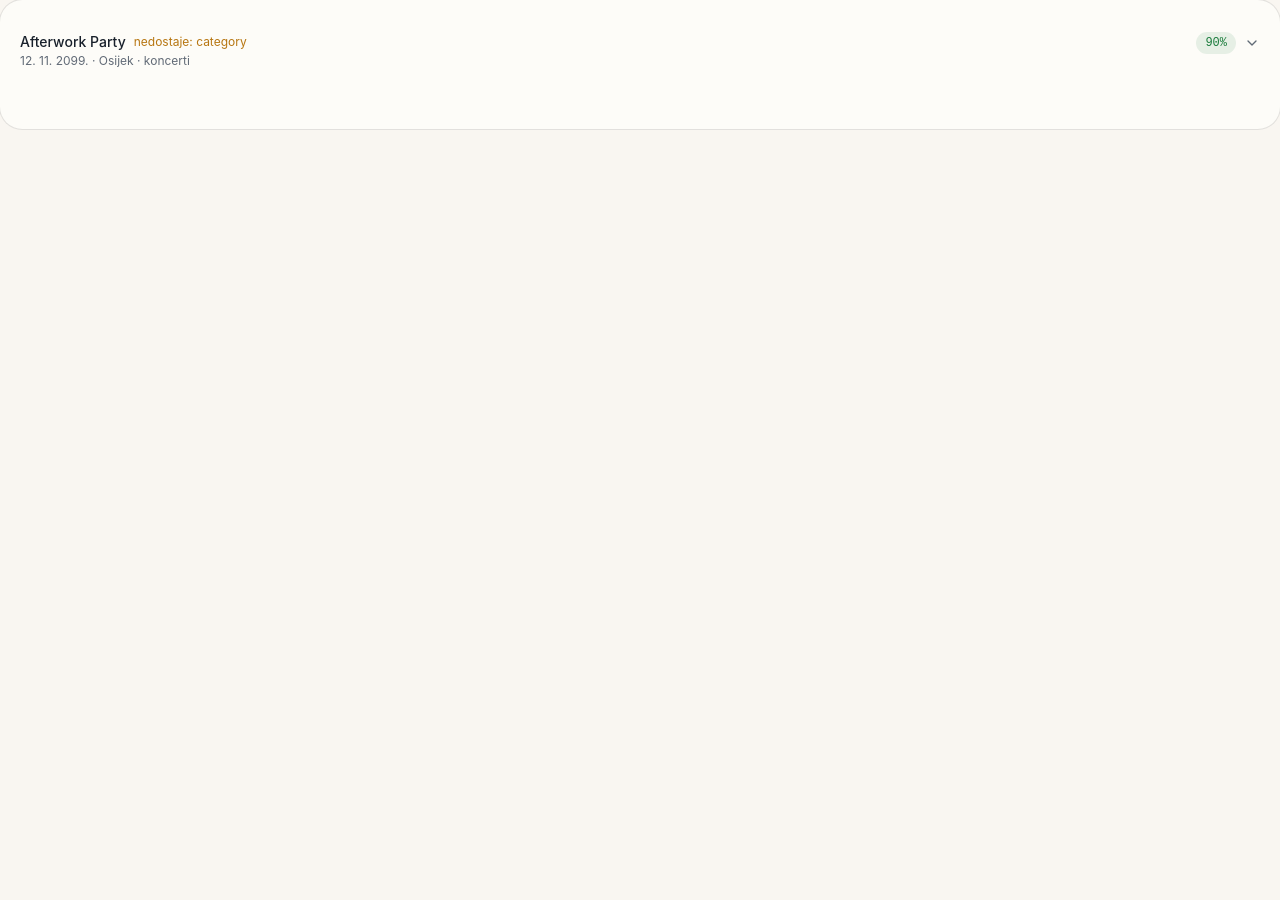
Test case: Izdvojeno in the parsed candidate review › sends the editorial flag with the import once the admin turns it on
Later steps or results of the test are not shown.
Click the button.
click(73, 42)  # box [0, 16, 1279, 85]
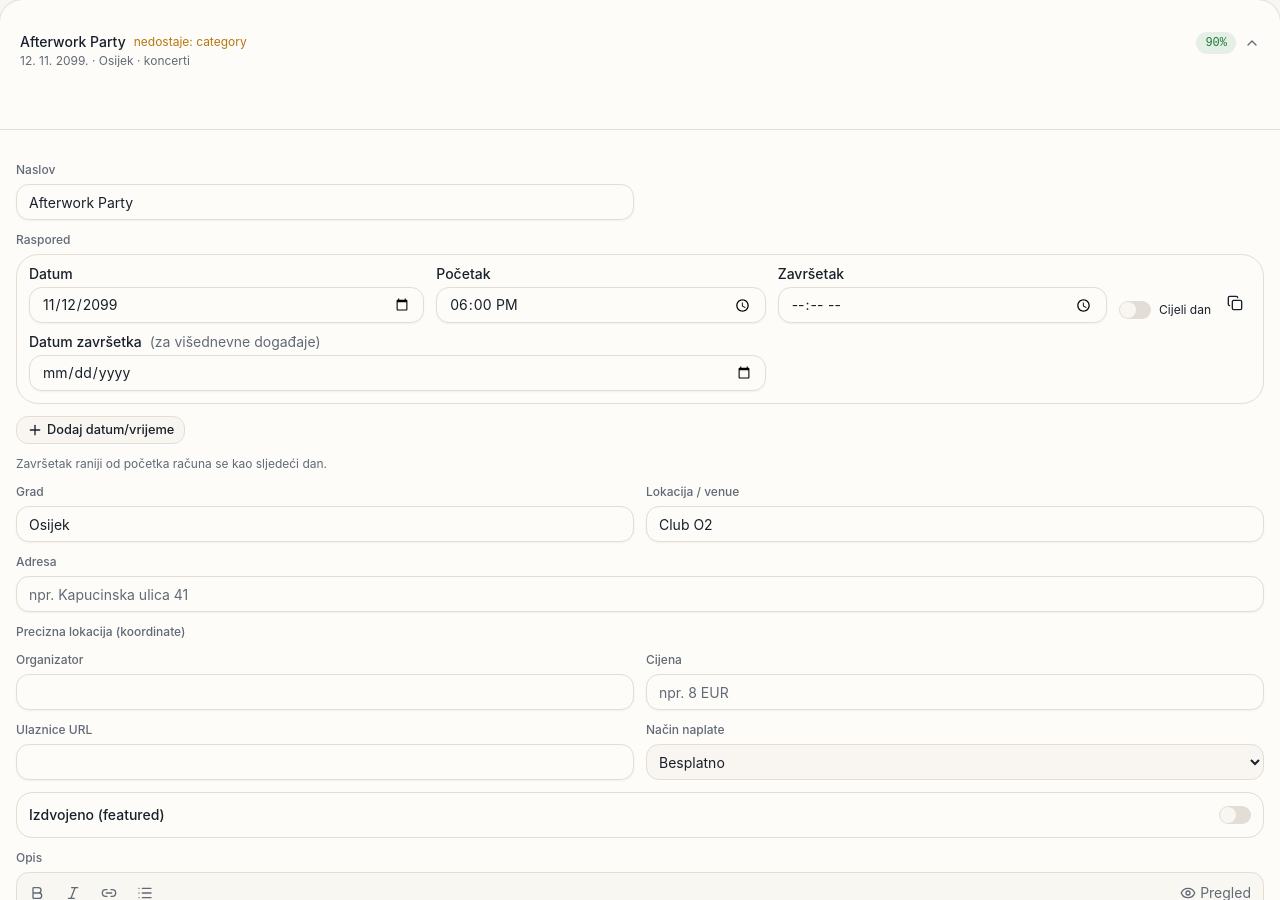
Now the checkbox labelled "Izdvojeno (featured)" is shown
Click the checkbox labelled "Izdvojeno (featured)".
click(97, 815)  # box [29, 805, 165, 825]
(page scrolled)
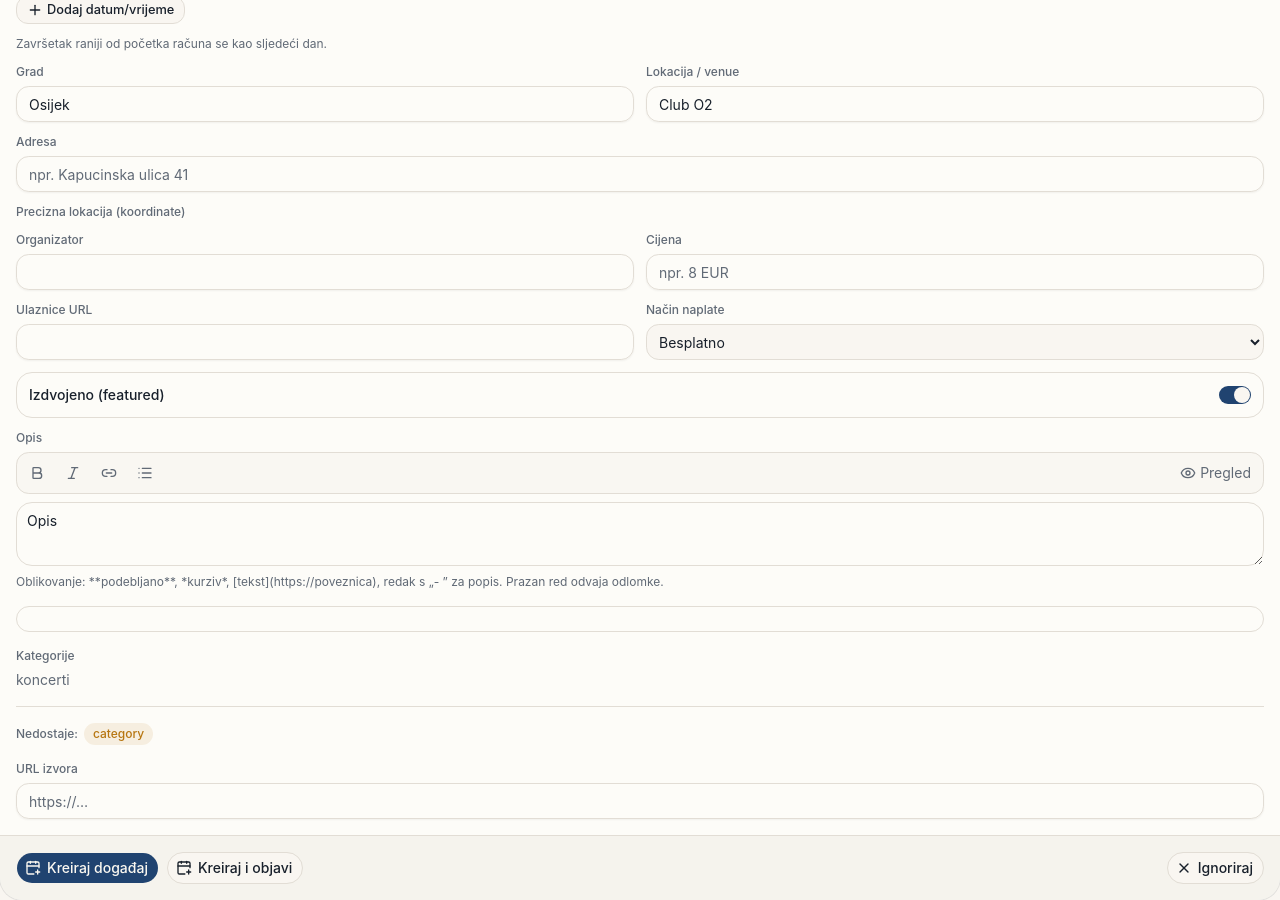
Now the button "Kreiraj događaj" is shown, box [16, 852, 159, 884]
